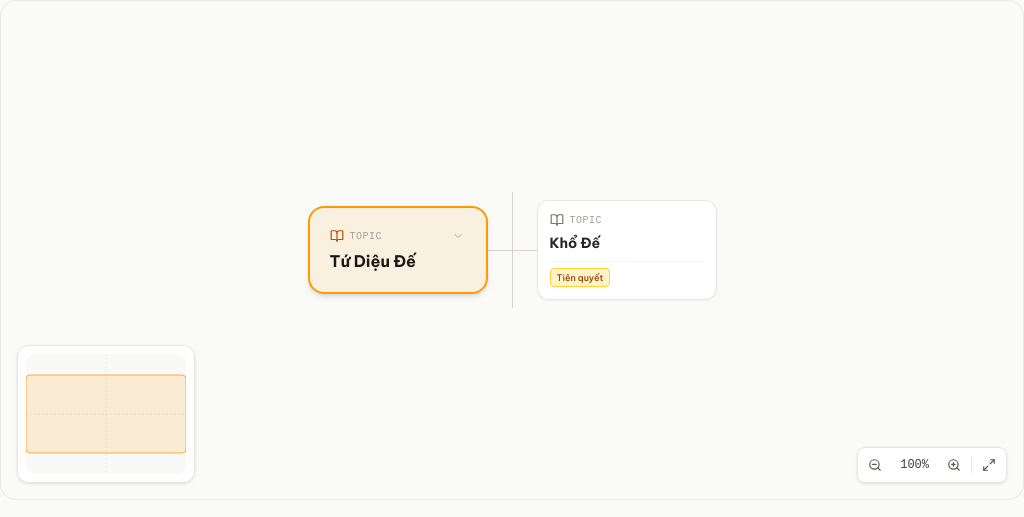
Test: Mind Map Phase B1: Minimal Viewport Zoom Controls › Scenario 3: Zoom out decreases scale by 10% and updates container style
What coordinates should you click on to do the following:
click the button with test id "btn-zoom-out"
I would click on:
 (875, 465)
Its box is [862,452,888,478].
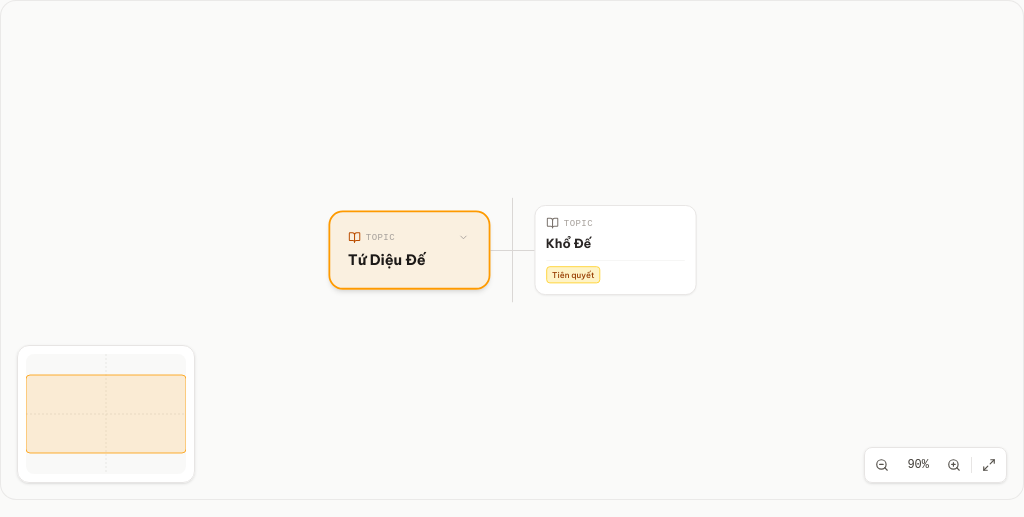
Result: the button with test id "btn-zoom-reset" reads "90%" at [899,453,937,477]
